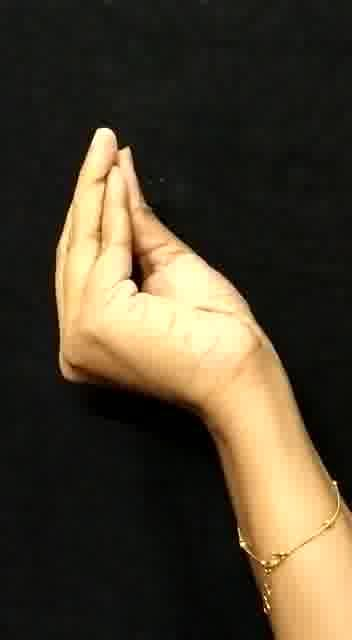mukul: (50, 113, 284, 421)
